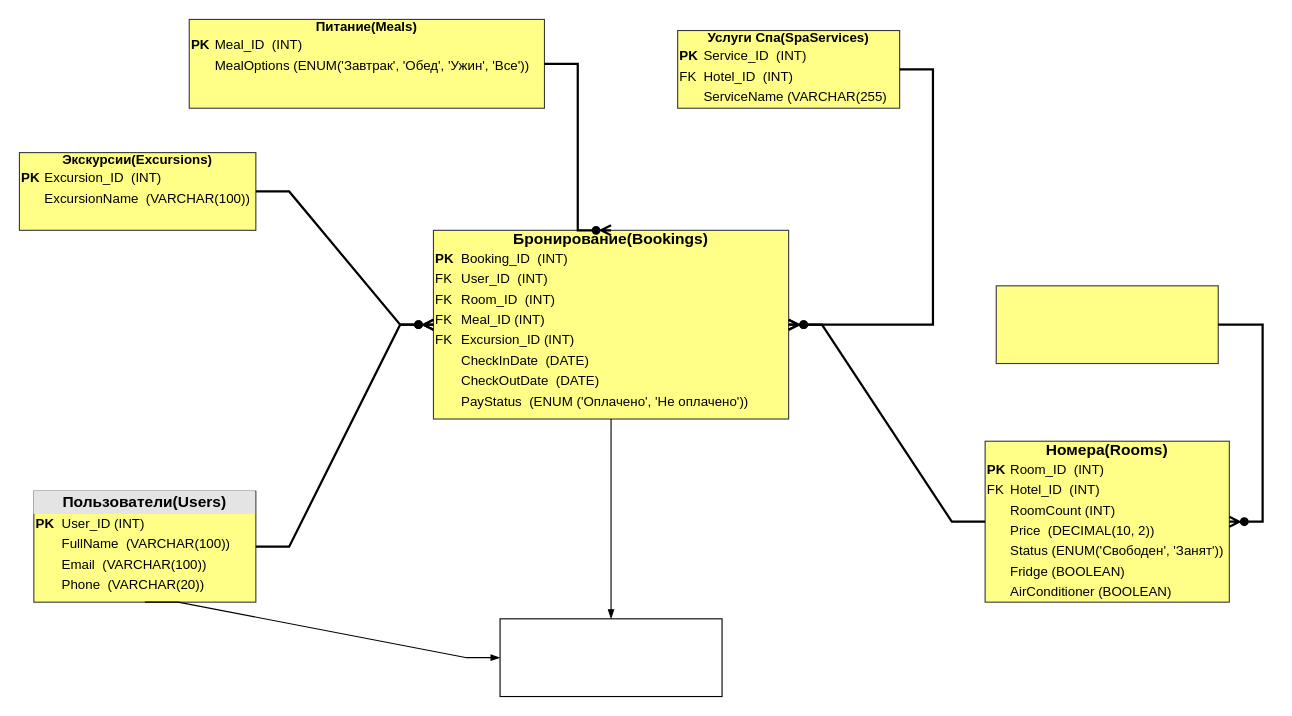
Image size: 1292x716. Some labels were removed from this diagram. The centre of each missing label's shape, as x and y in pixels:
"История(History) PK History_ID (INT) FK User_ID (INT) FK Booking_ID (INT)" goes at pixel 610 657.
"Отели(Hotels) PK Hotel_ID (INT) Name (VARCHAR(100)) Location (VARCHAR(200))" goes at pixel 1106 324.
